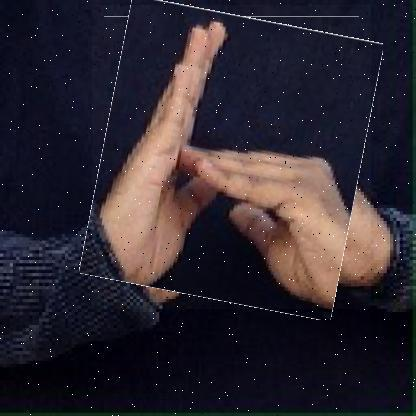Z: (92, 5, 372, 310)
